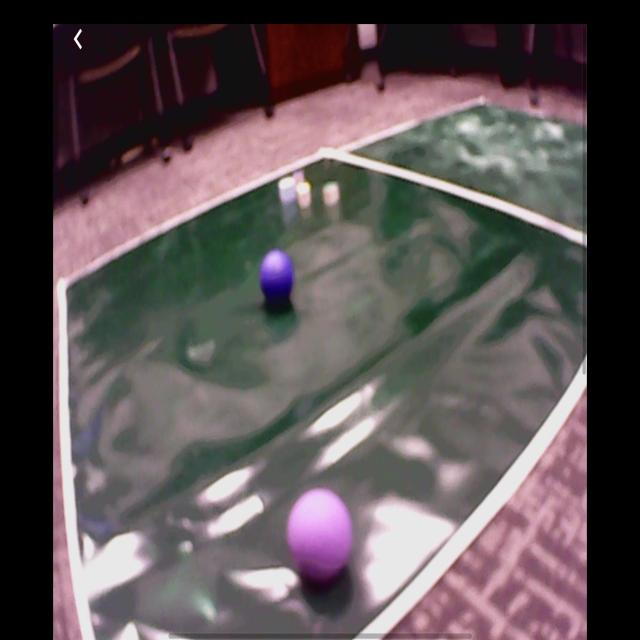ball: (288, 489, 353, 588), (261, 251, 294, 303)
